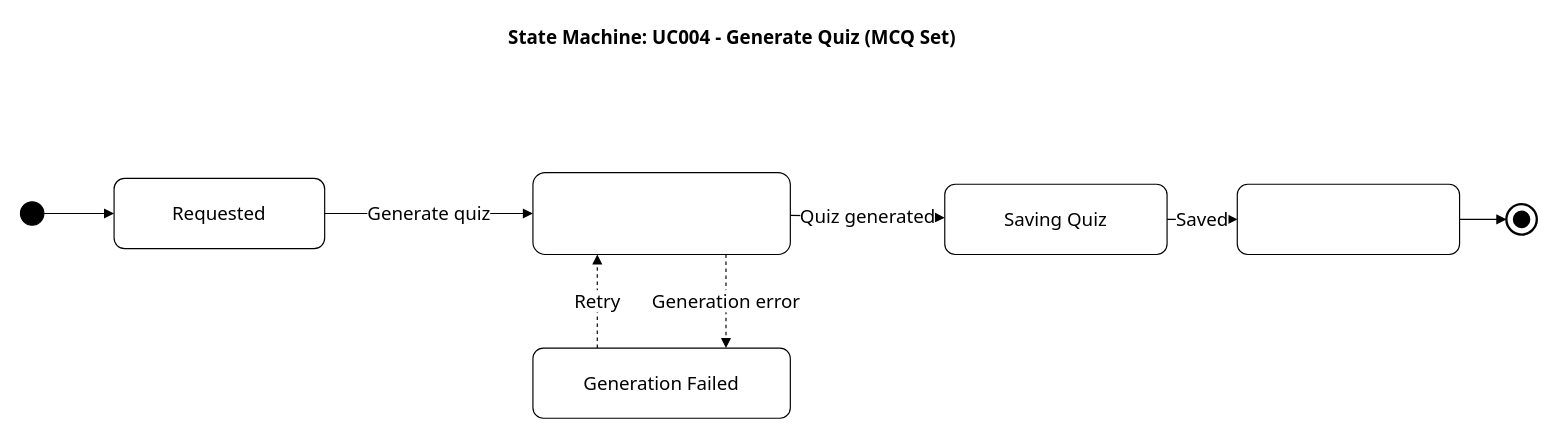
Image size: 1558x439. Some labels were removed from this diagram. Each missing label, with the centre of its shape:
Generating Quiz (LLM): the point at 661,212
Quiz Ready: the point at 1348,218
